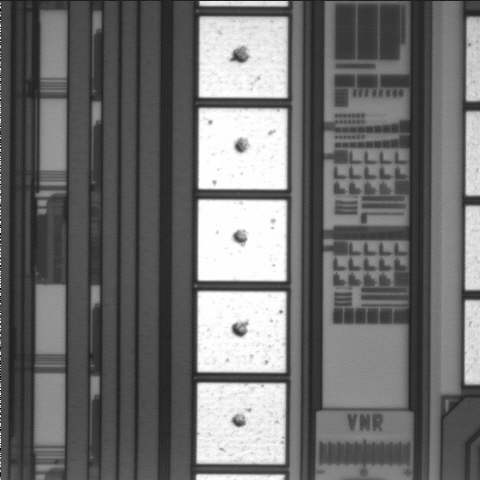pad: (198, 108, 287, 190), (197, 291, 286, 373), (199, 17, 288, 98), (198, 200, 287, 281), (197, 383, 286, 464)
